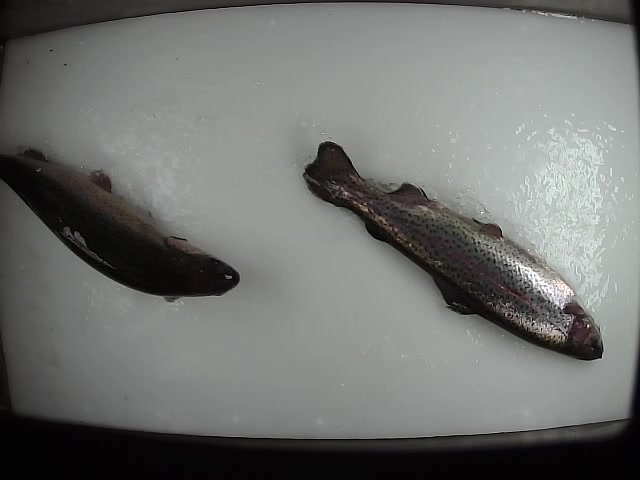Fish: (300, 139, 604, 360)
